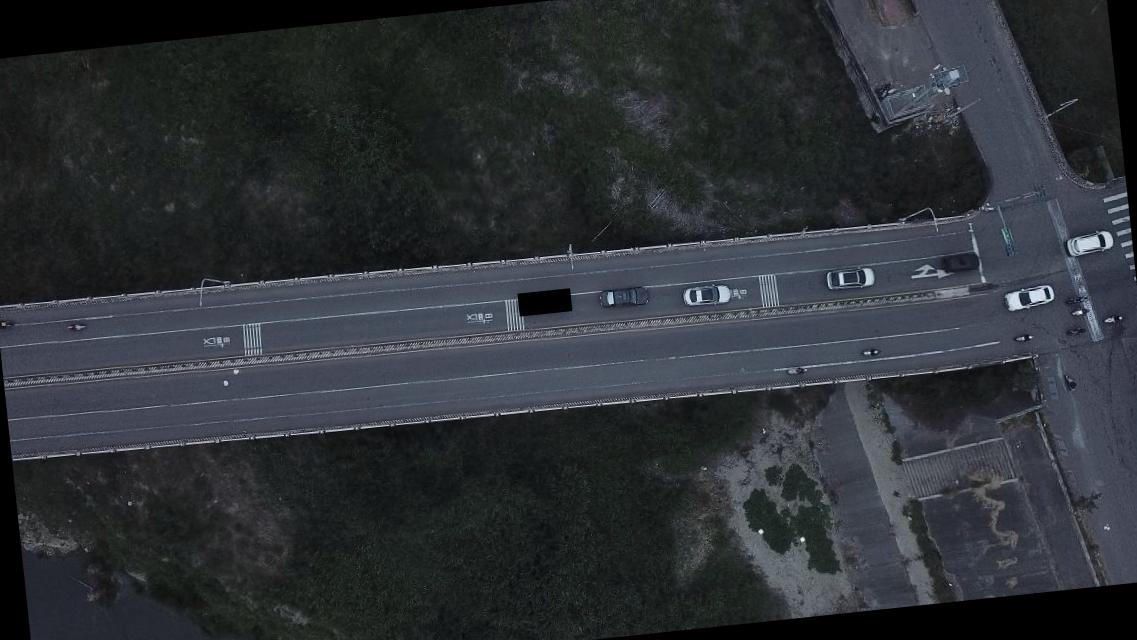vehicle: (1064, 228, 1114, 258), (1002, 284, 1055, 312), (597, 284, 650, 310), (825, 265, 876, 292), (681, 282, 731, 308), (940, 251, 979, 273)
